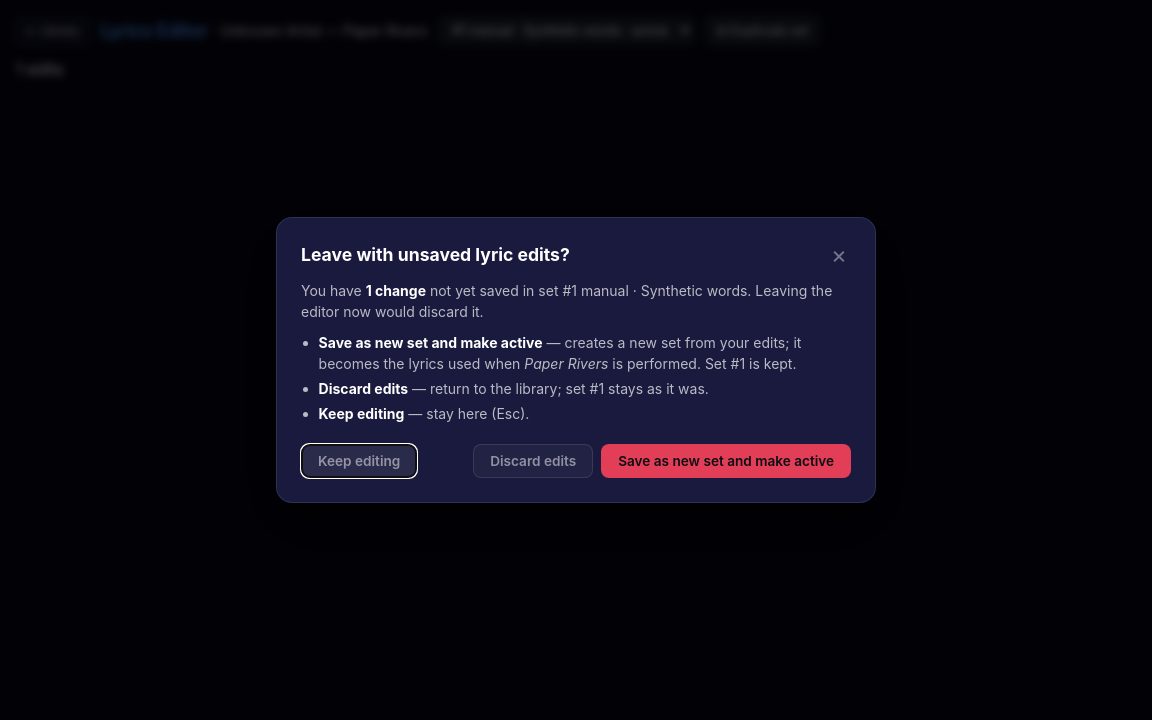
Test: lyrics editor unsaved-edits guard › Keep editing cancels the leave and keeps the edits
The width and height of the screenshot is (1152, 720).
Click the button "Keep editing" at coordinates (359, 461), box [301, 444, 417, 478]
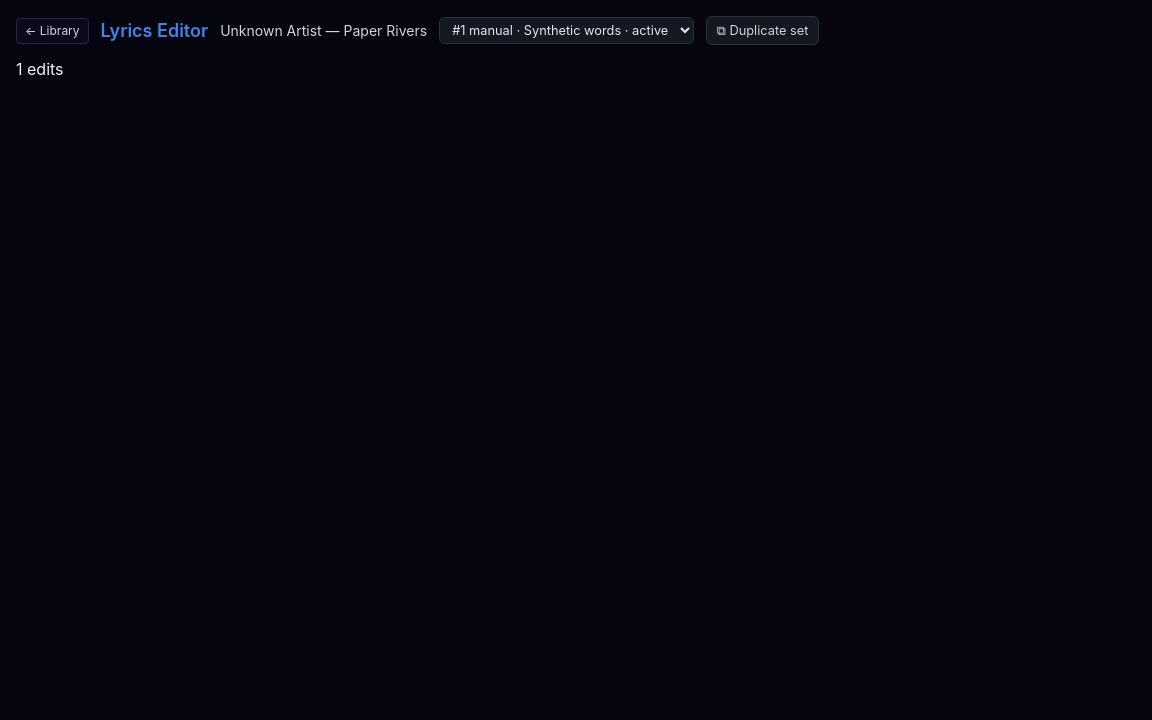
Now the dialog is gone
